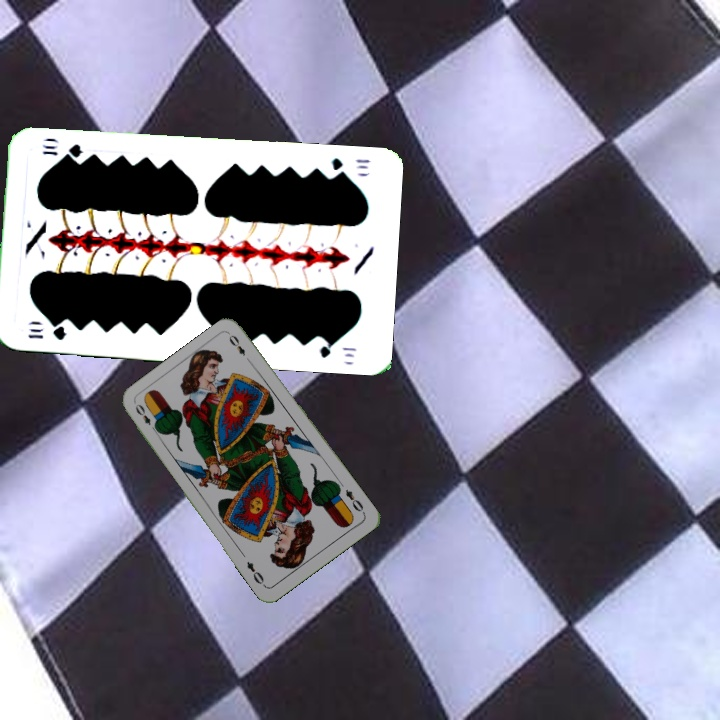EO: (131, 400, 160, 435), (341, 485, 367, 516)
G10: (327, 153, 373, 179), (24, 321, 68, 343)
